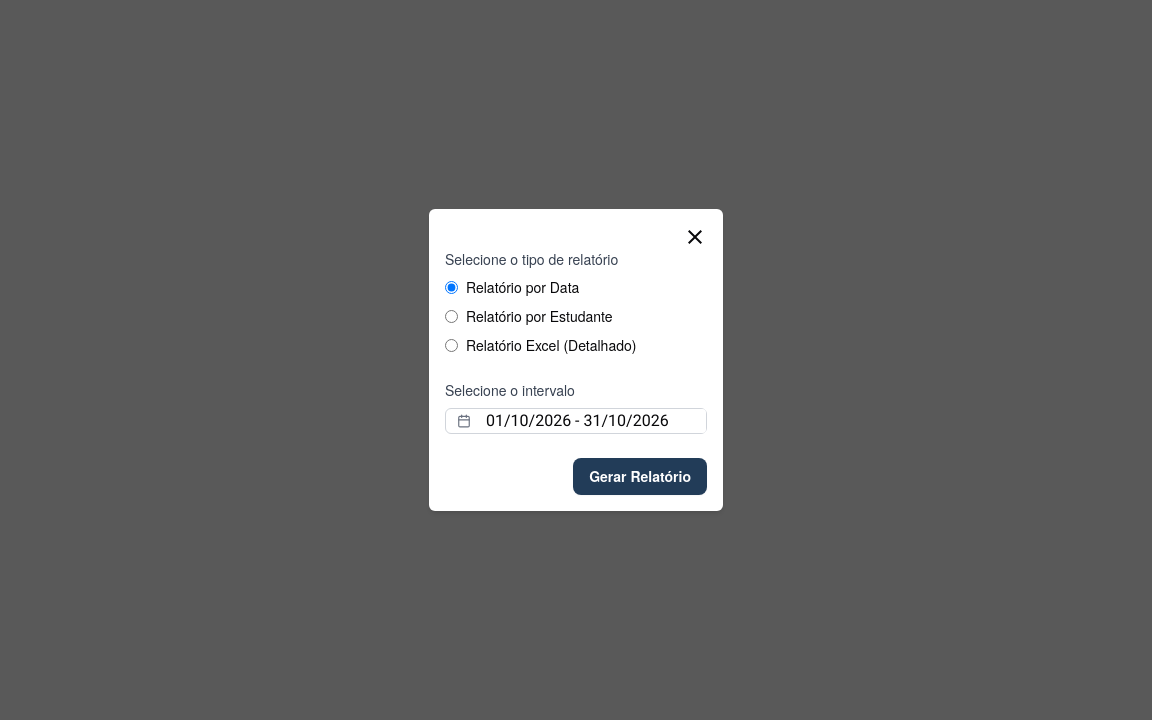
Test: Relatório com o % do alerta (tickets/054, card 05) › sem alerta, o campo fica vazio como antes
Click the radio button labelled "Relatório Excel (Detalhado)" at (452, 346), box 445,339 -> 458,352
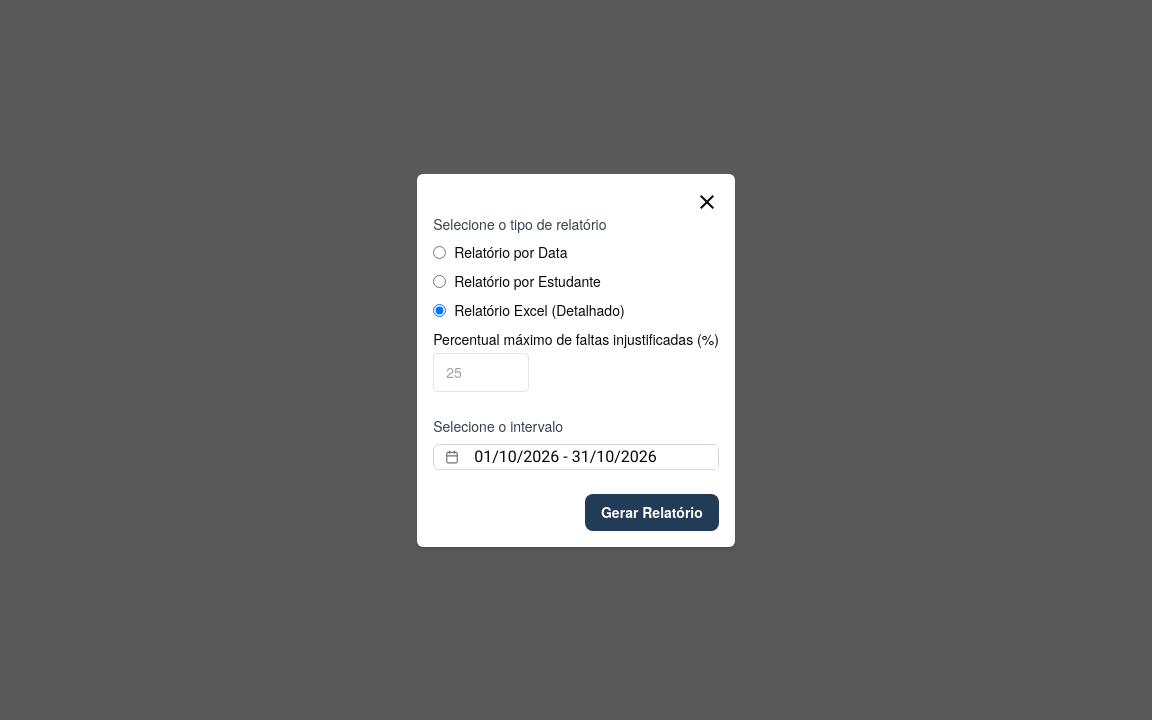
Check: the number field is not empty, box 433,352 -> 529,392
